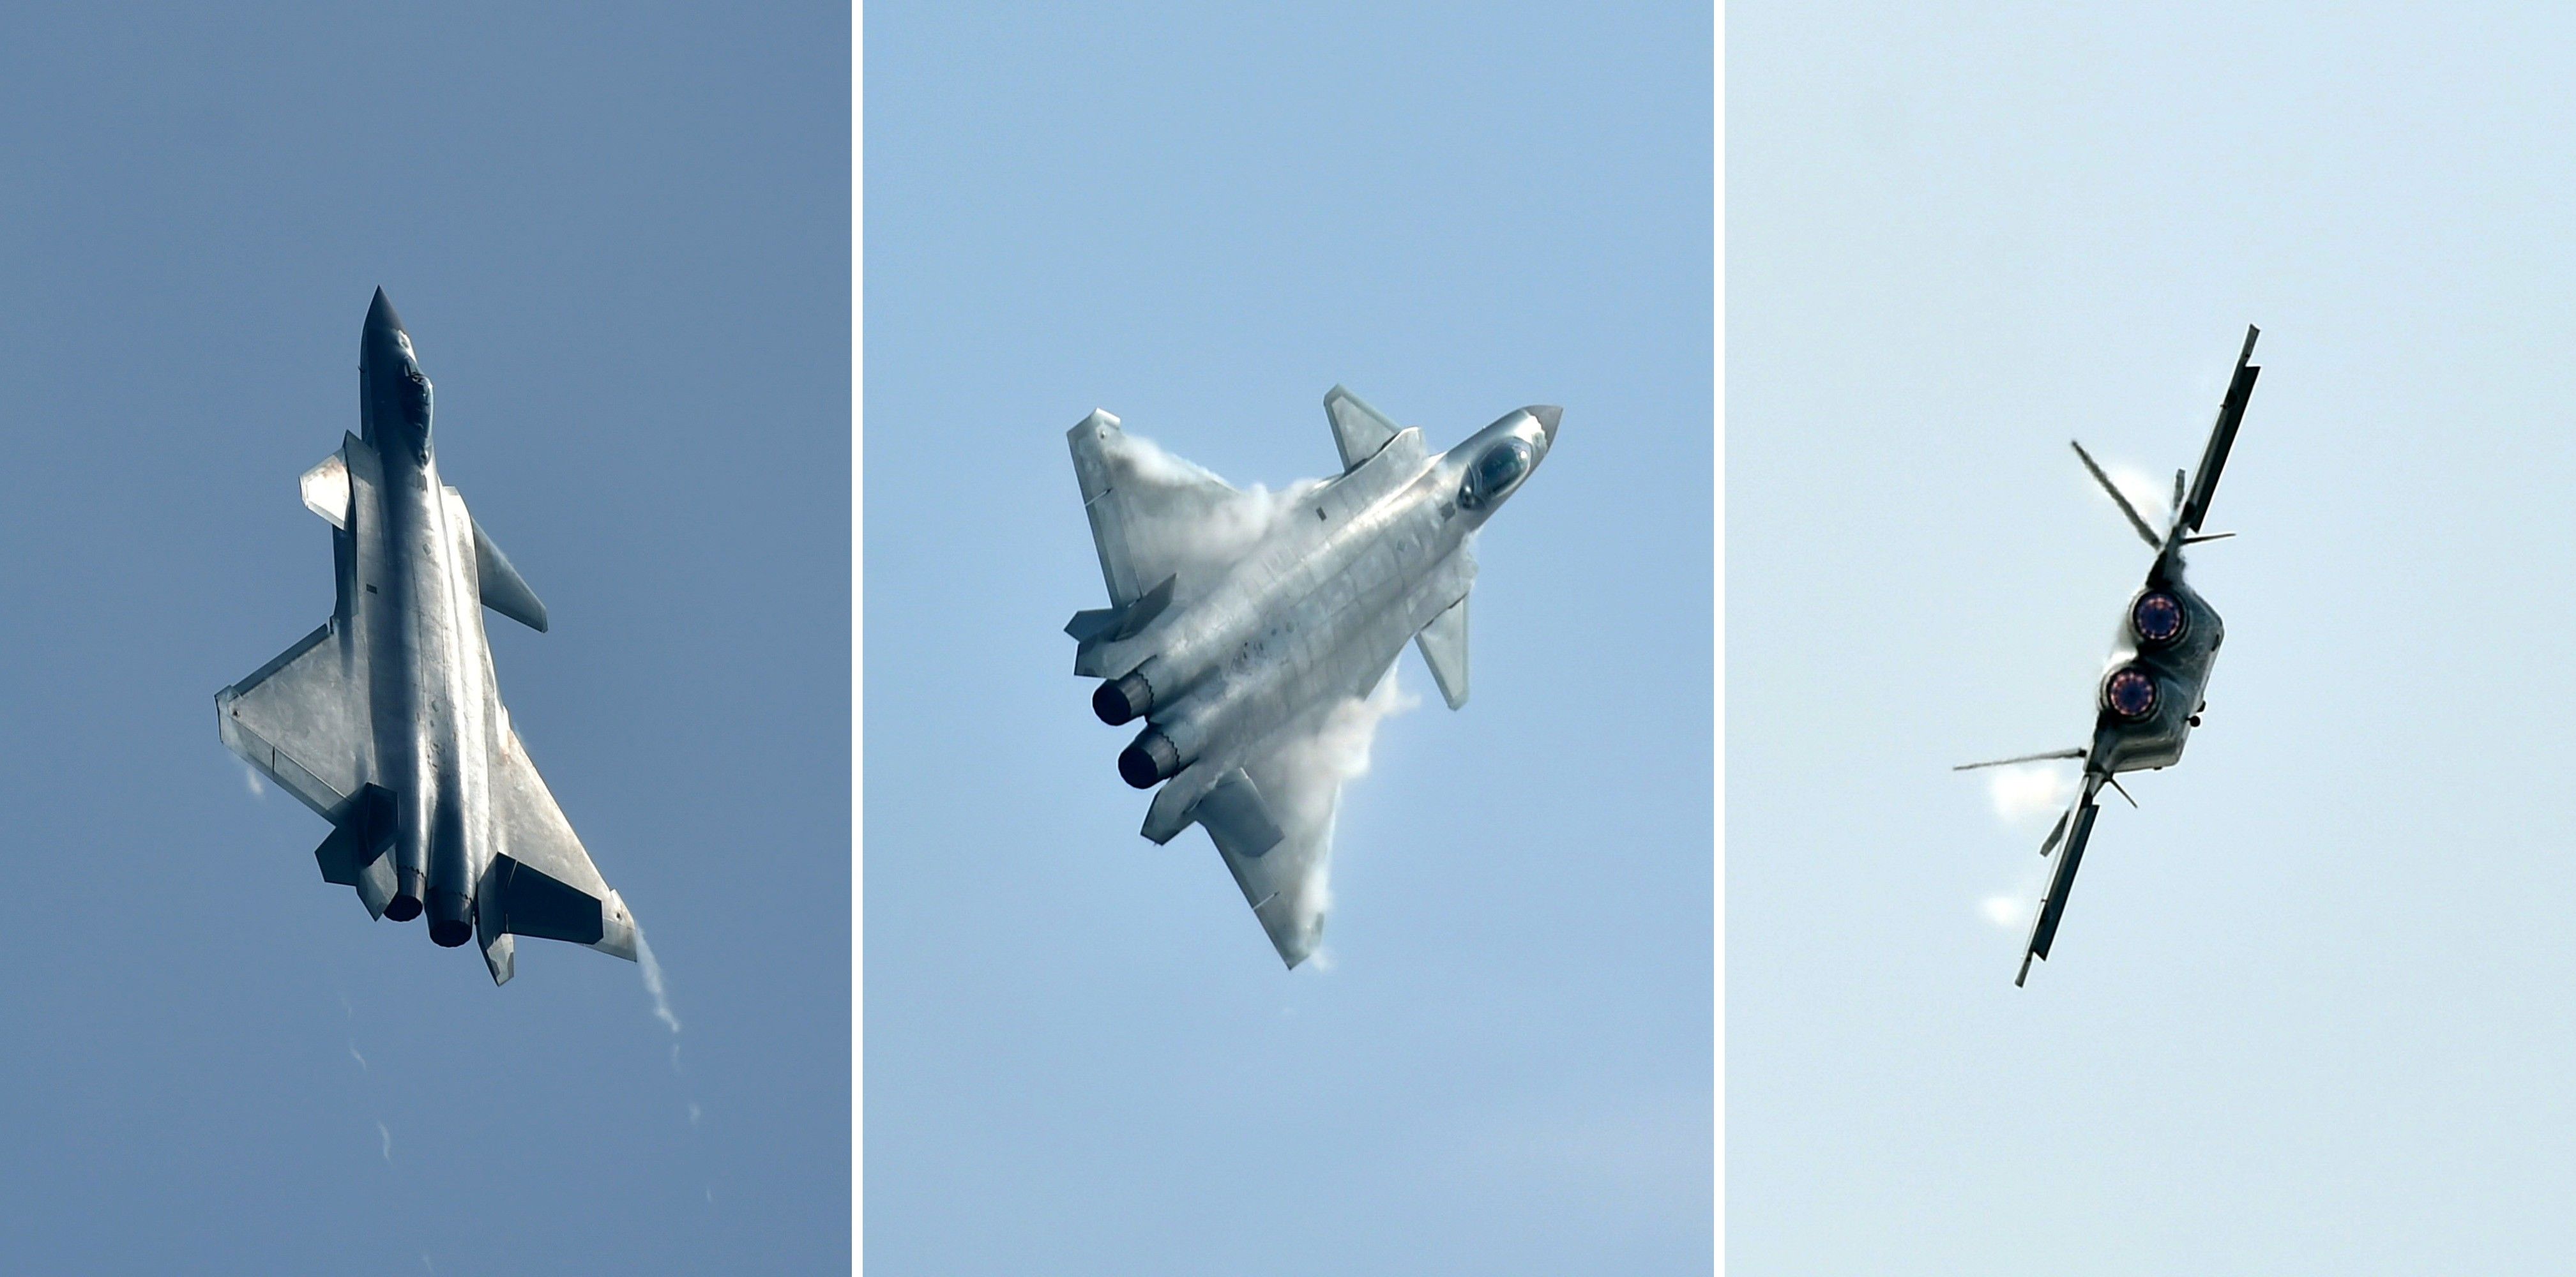J20: (214, 284, 637, 988), (1063, 383, 1564, 971), (1952, 322, 2261, 988)
